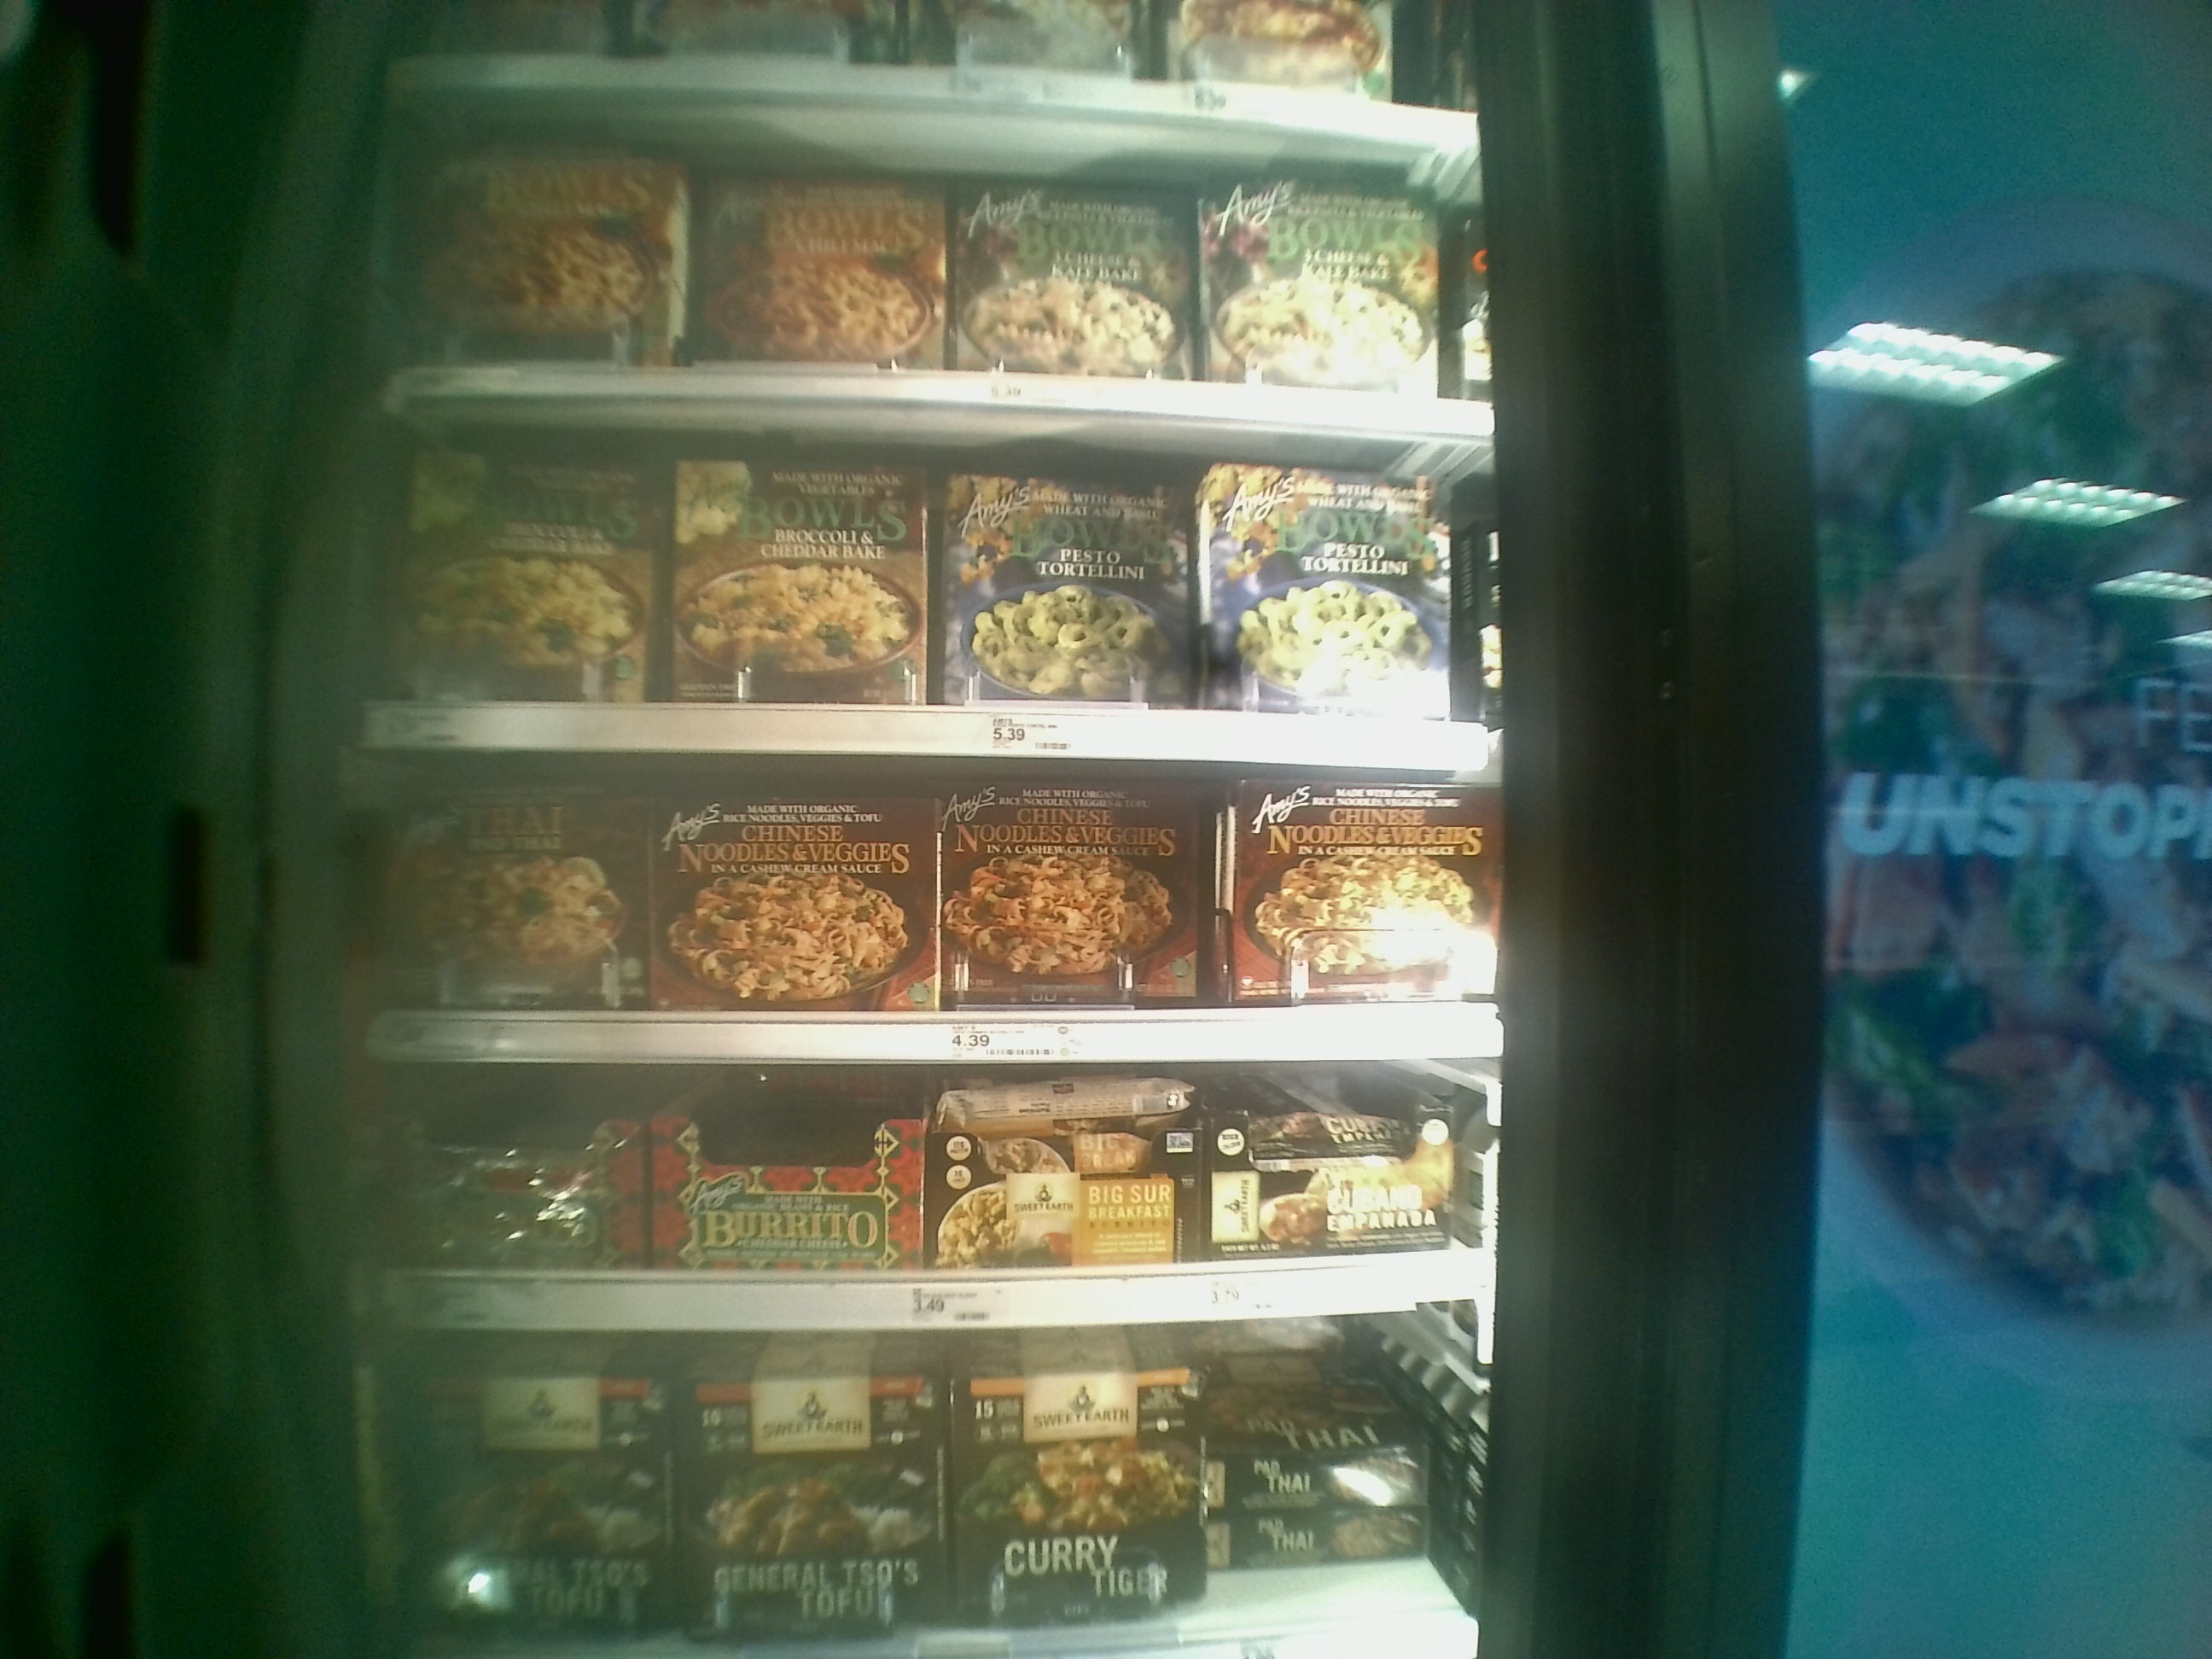frozen-food-shelf: (340, 450, 1529, 774), (343, 152, 1505, 446), (340, 779, 1526, 1060), (340, 1058, 1519, 1331)
